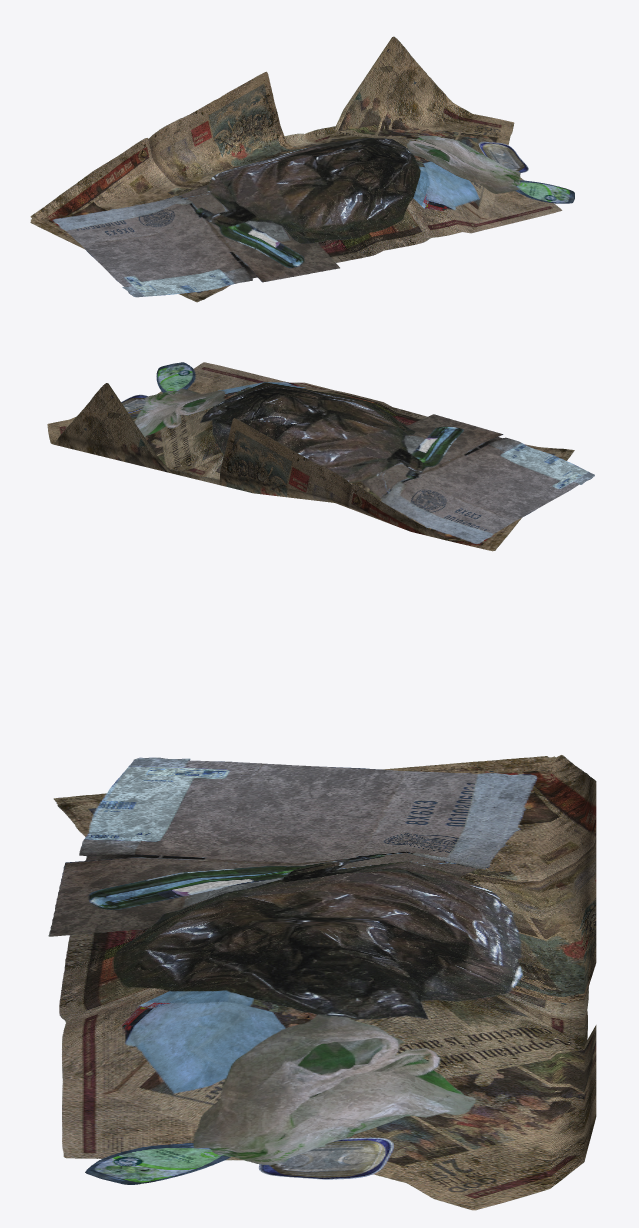
File: 3D_Decal_08.fbx
3 views of the same model, one above another, from view 1: azimuth 30°, elevation 25°; view 2: azimuth 150°, elevation 25°; view 3: azimuth 270°, elevation 25° (orthographic). The views are drawn at different scales.
Visible parts, largest first — view 1: THREED_Decal; view 2: THREED_Decal; view 3: THREED_Decal.
Boxes of the visible parts, x1,y1,x2,y2 form: THREED_Decal: (30,36,574,302); THREED_Decal: (47,362,594,551); THREED_Decal: (48,755,596,1210).
Bounding box in the file's own units: 2.42 × 0.4172 × 1.23.
